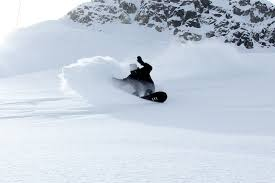snowboard: (139, 90, 169, 103)
